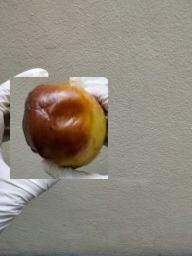Apple Rotten: (10, 77, 108, 179)
